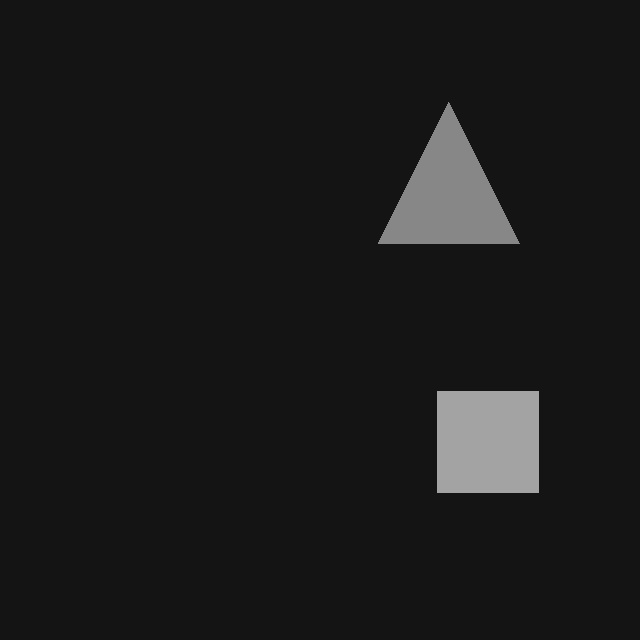square: (437, 391, 538, 492)
triangle: (378, 102, 519, 243)
